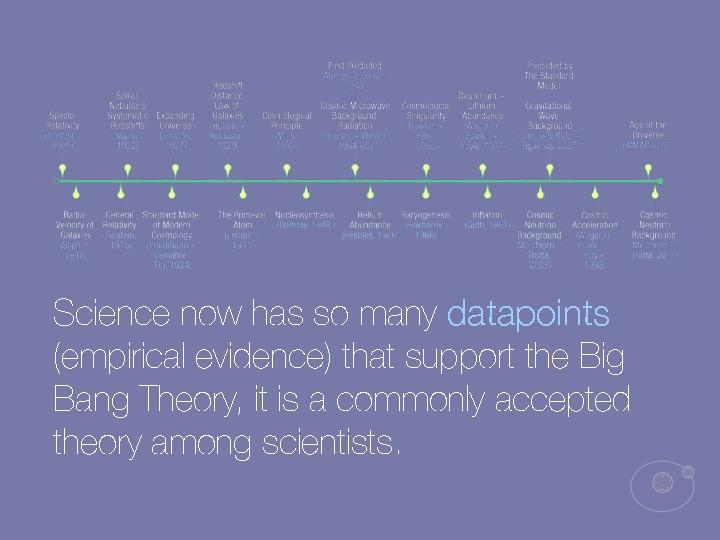title: (32, 268, 662, 481)
